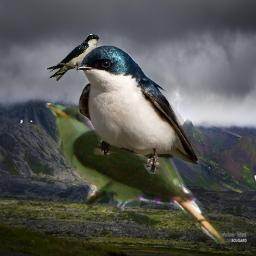Cuckoo: (43, 103, 230, 245)
Swallow: (78, 44, 201, 174), (45, 34, 100, 81)
